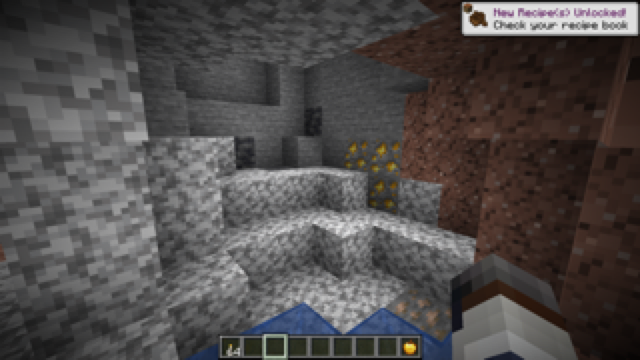gold: (341, 139, 402, 215)
iron: (387, 283, 458, 342)
